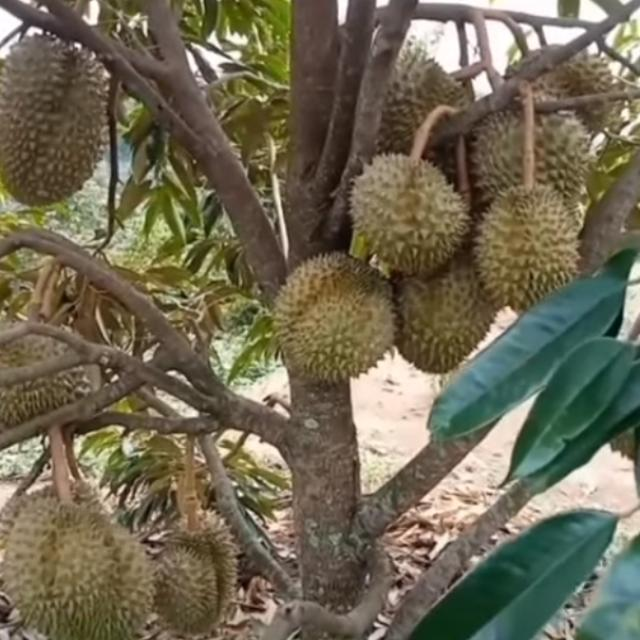mature: (0, 487, 154, 640), (0, 24, 118, 212), (266, 249, 398, 379), (391, 239, 501, 382), (346, 153, 472, 276), (477, 186, 584, 312), (148, 509, 238, 640)
